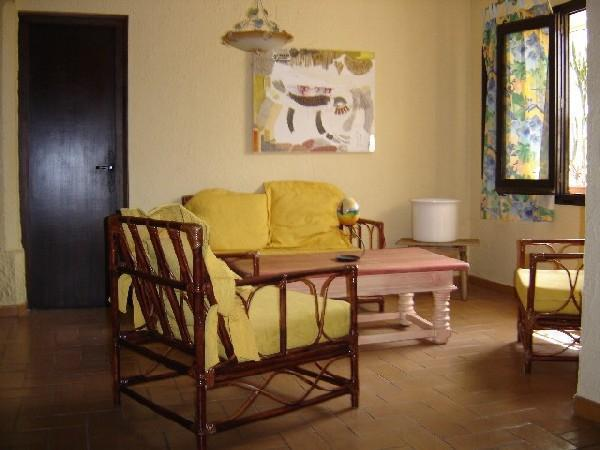Puerta: (18, 15, 121, 301)
Ventana: (502, 22, 587, 207)
